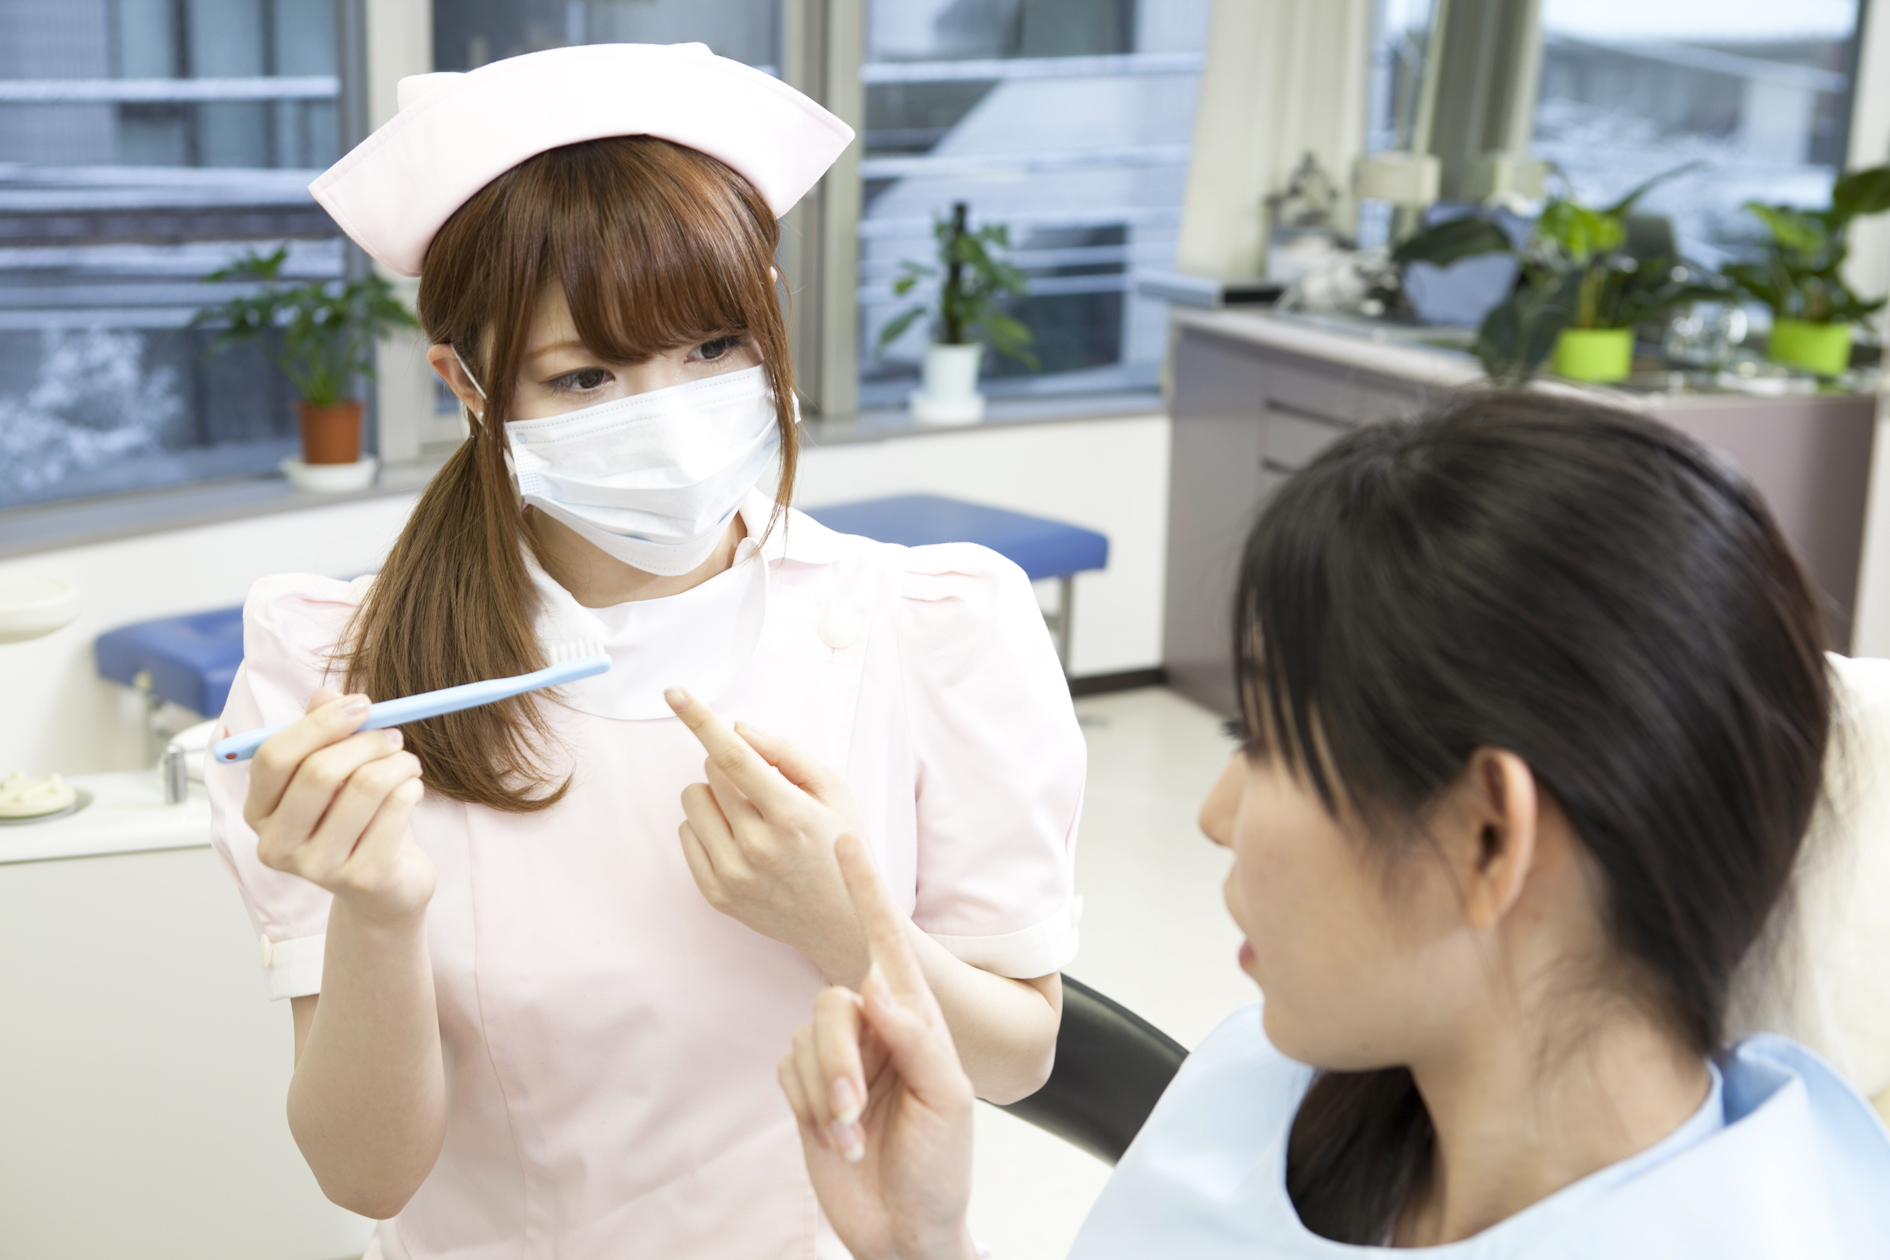mask: (512, 363, 795, 577)
